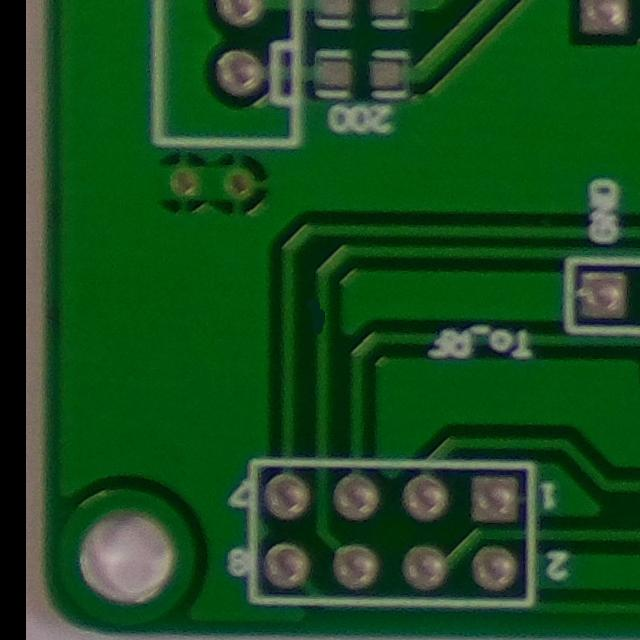mouse_bite: (295, 291, 345, 350)
